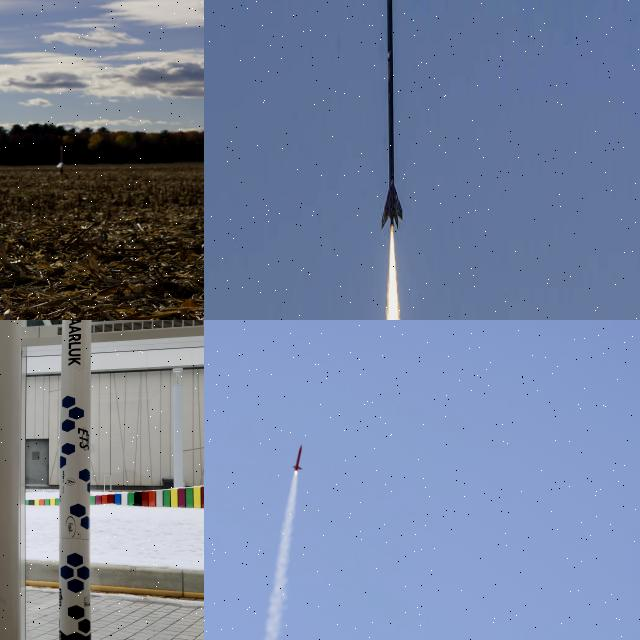Rocket: (59, 320, 91, 640), (378, 0, 404, 233), (292, 444, 303, 471), (57, 145, 65, 167)
